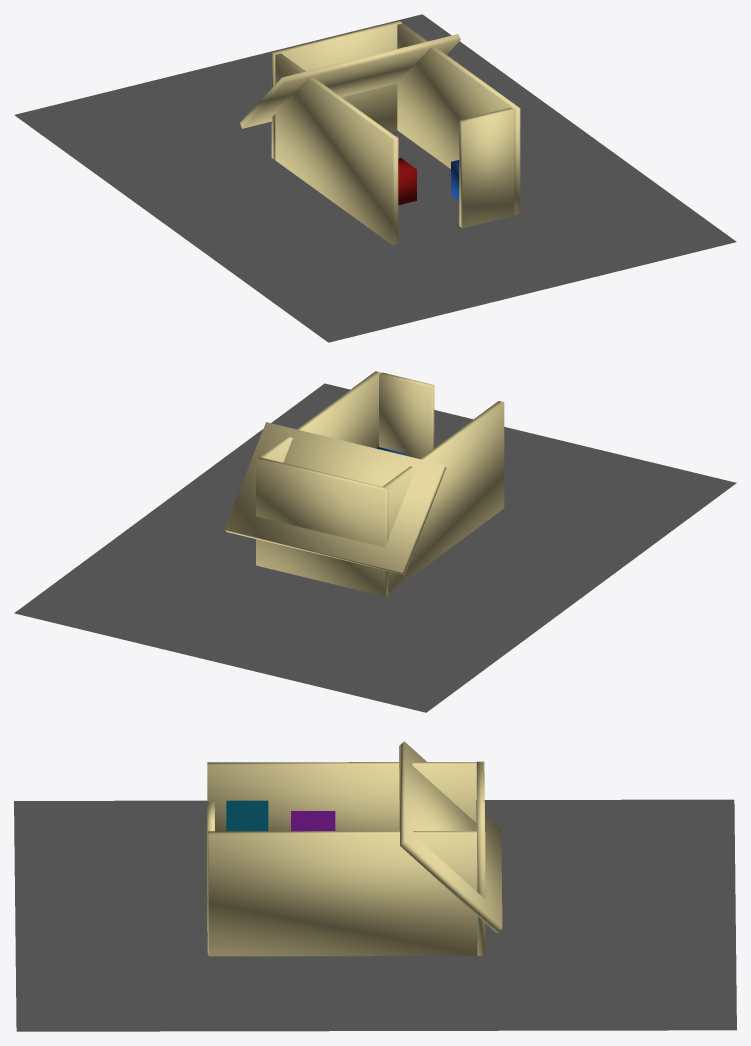
Rendered from home_test.obj.
The picture shows the model from 3 angles, top to bottom: view 1: azimuth 30°, elevation 25°; view 2: azimuth 150°, elevation 25°; view 3: azimuth 270°, elevation 25°; orthographic projection. The views are drawn at different scales.
Visible parts, largest first — view 1: Plane001, Box002, Box004, Box001, Box010, Box007, Box006; view 2: Plane001, Box010, Box007, Box002, Box001, Box004; view 3: Plane001, Box004, Box002, Box010, Box007, Plane002, Plane003.
Part boxes in pixels (x1,y1,x2,y2): Plane001: (14, 14, 736, 342); Box002: (275, 53, 398, 245); Box004: (397, 23, 520, 215); Box001: (459, 107, 514, 228); Box010: (240, 34, 460, 128); Box007: (271, 21, 402, 159); Box006: (398, 158, 416, 205); Plane001: (14, 383, 736, 712); Box010: (224, 422, 446, 574); Box007: (256, 457, 388, 596); Box002: (383, 401, 504, 593); Box001: (379, 372, 434, 458); Box004: (260, 371, 380, 462); Plane001: (14, 799, 736, 1031); Box004: (208, 830, 476, 956); Box002: (207, 762, 476, 831); Box010: (399, 741, 502, 932); Box007: (476, 761, 485, 955); Plane002: (226, 800, 268, 831); Plane003: (291, 811, 335, 831).
Size of the model in its own units: 14.3 by 3.7 by 18.82.
